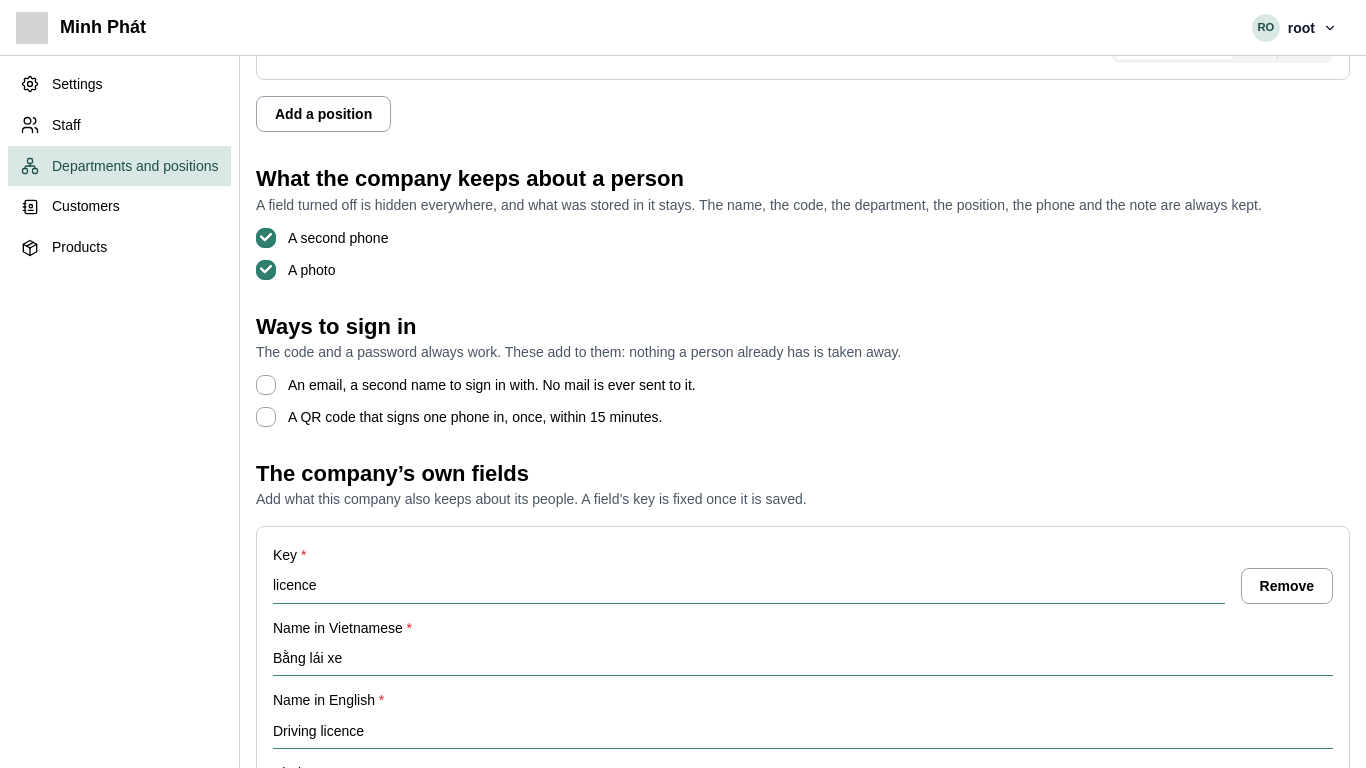
Scenario: an email on a person › C: The root turns the email and the QR sign-in on in the staff setup, and the person’s page then shows both
(page scrolled)
Click the checkbox labelled "An email, a second name to sign in with. No mail is ever sent to it." at (266, 385), box [256,375,276,395]
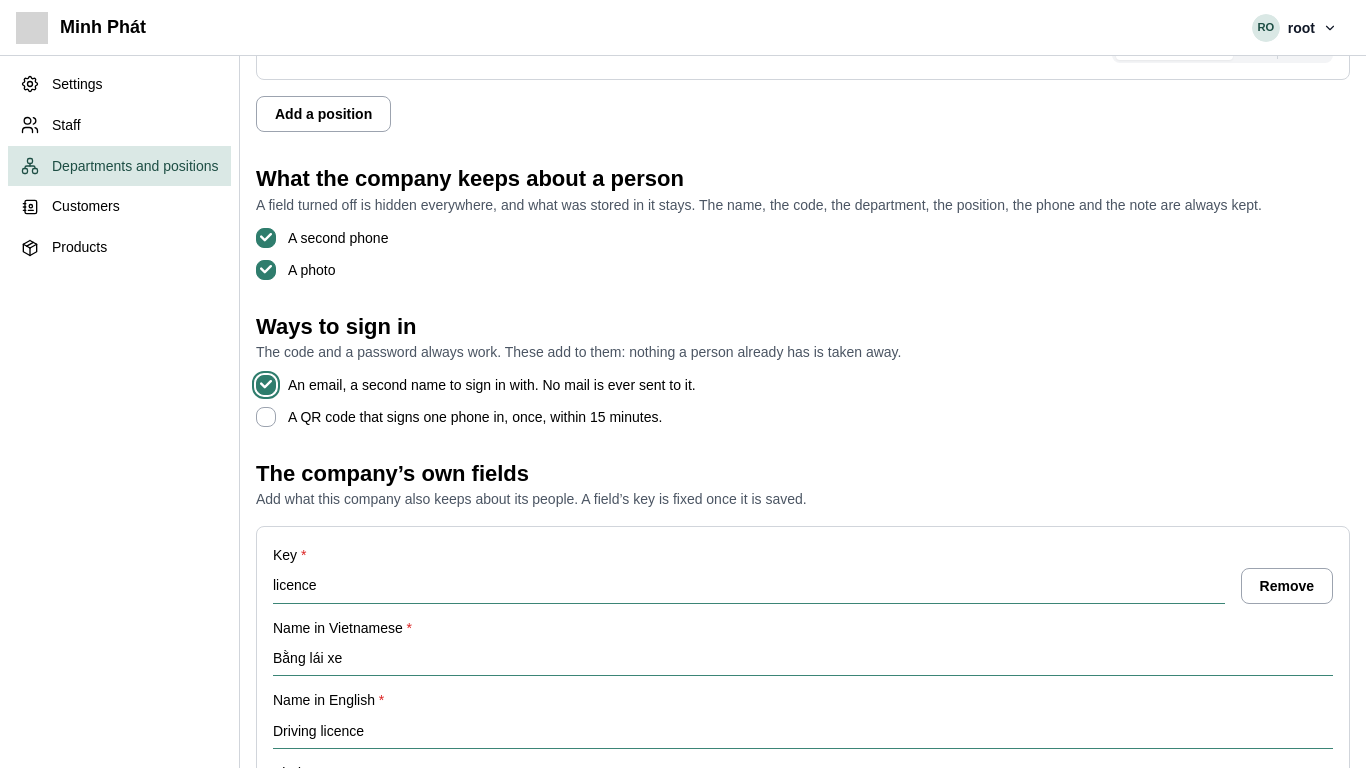
Click the checkbox labelled "A QR code that signs one phone in, once, within 15 minutes." at (266, 417), box [256,407,276,427]
(page scrolled)
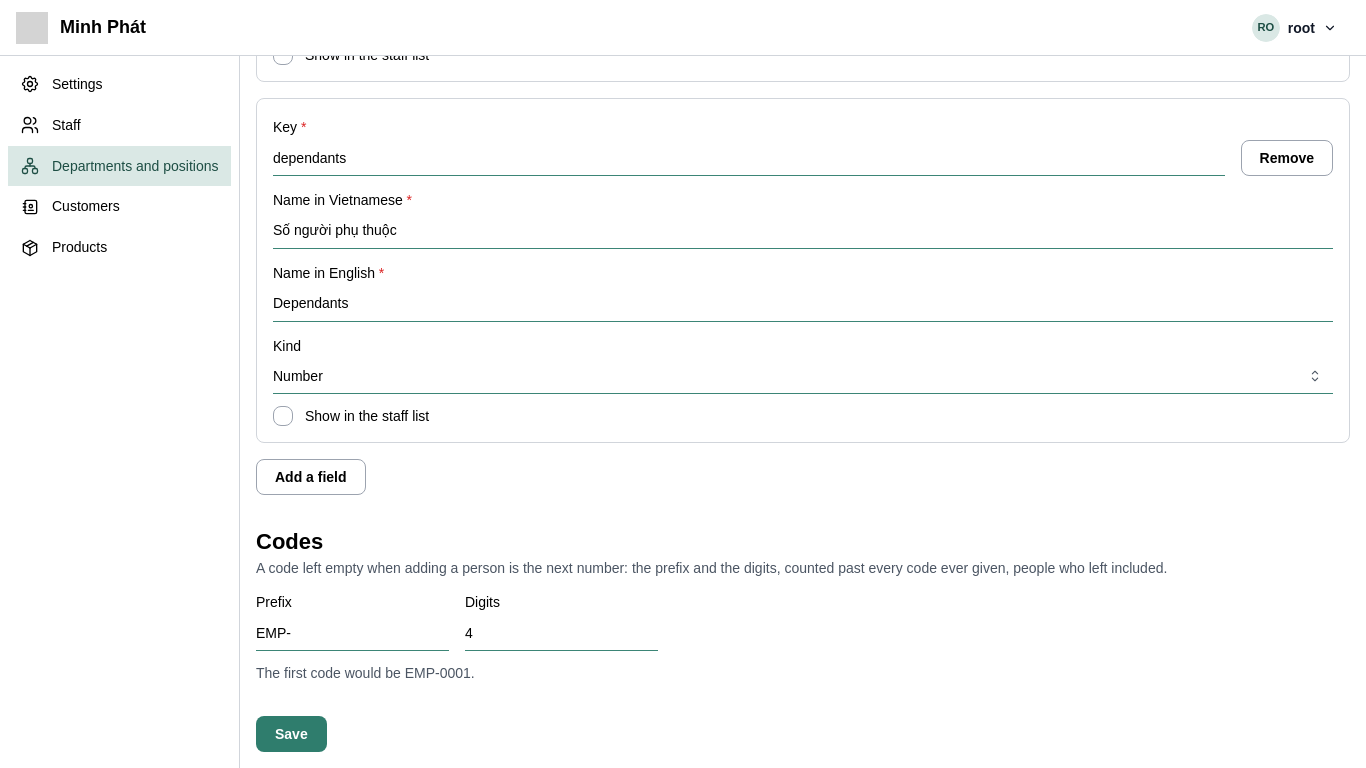
Click the button "Save" at (291, 734), box [256,716,327,752]
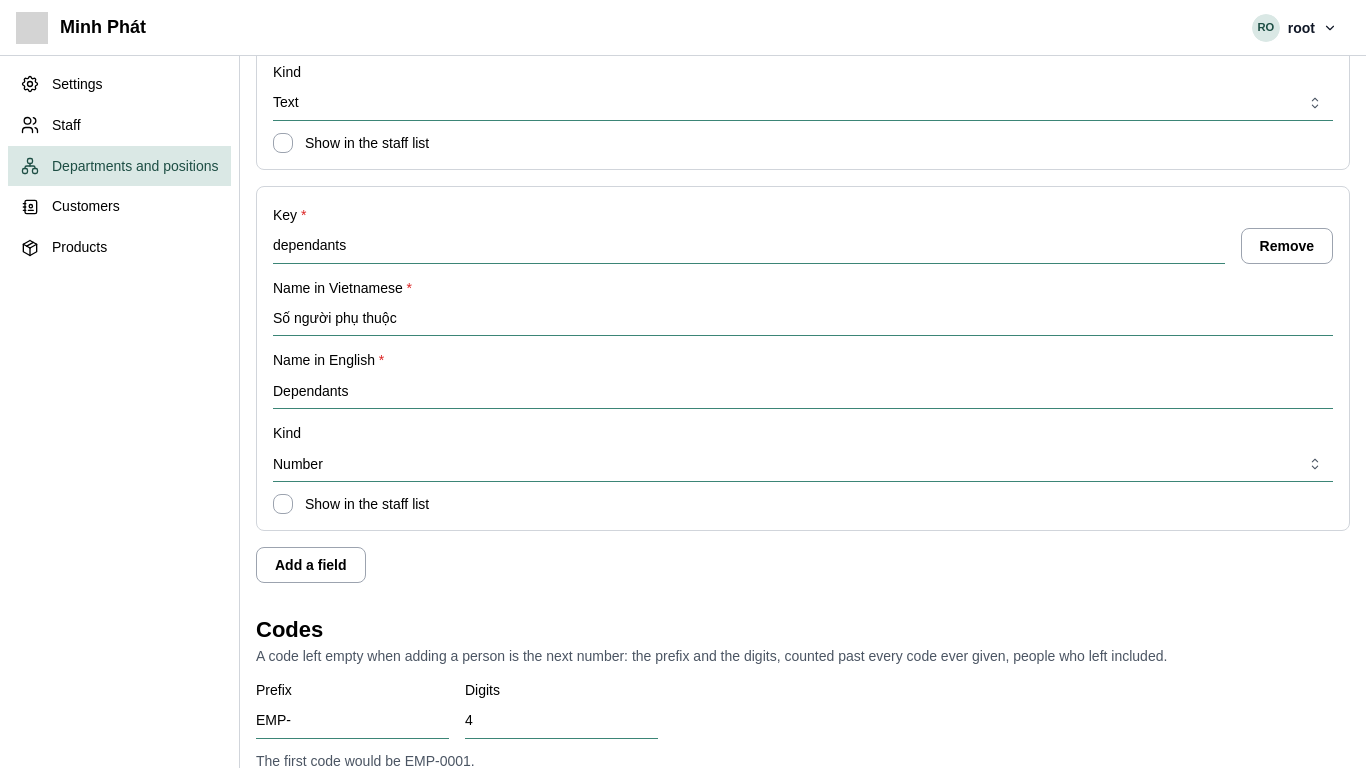
Click the link "Staff" at (50, 125), box [20,115,80,135]
(page scrolled)
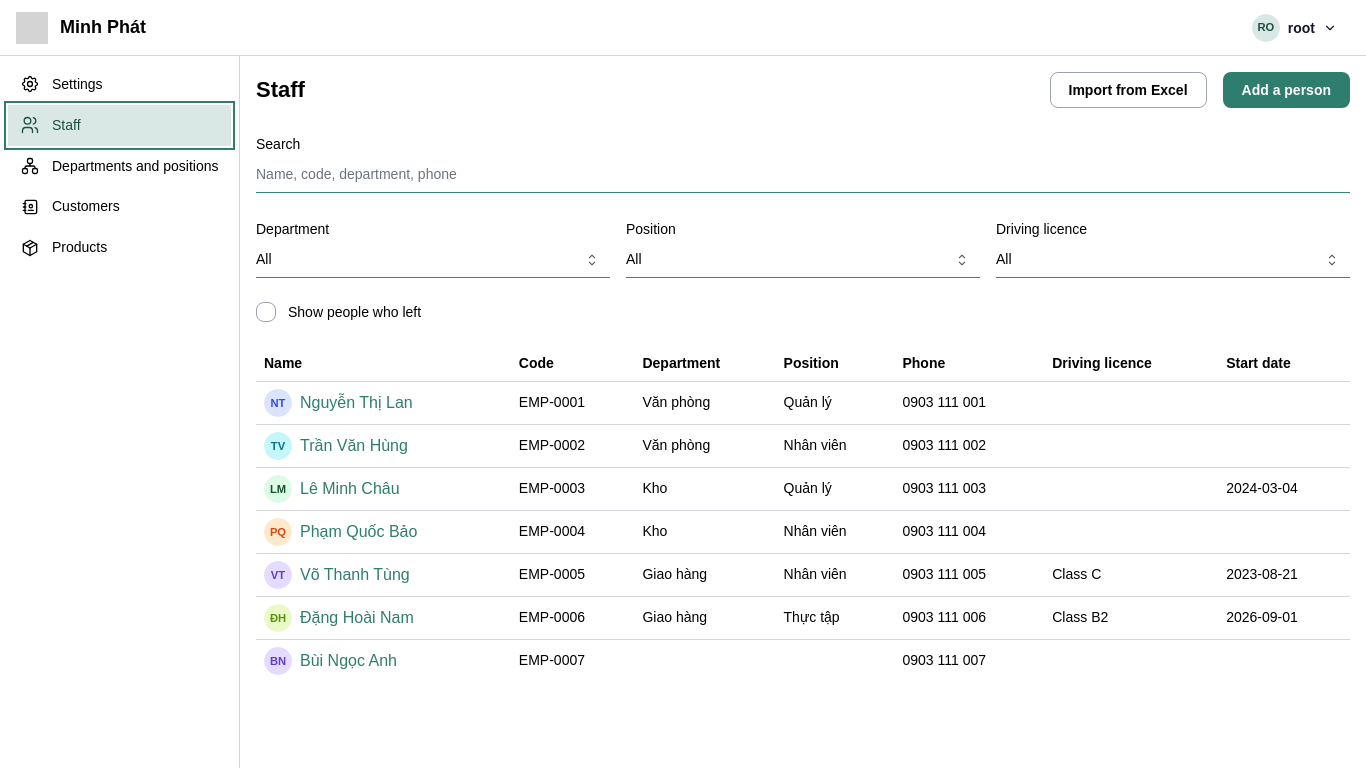
Click the link "Trần Văn Hùng" at (354, 446), box [300,434,408,459]
(page scrolled)
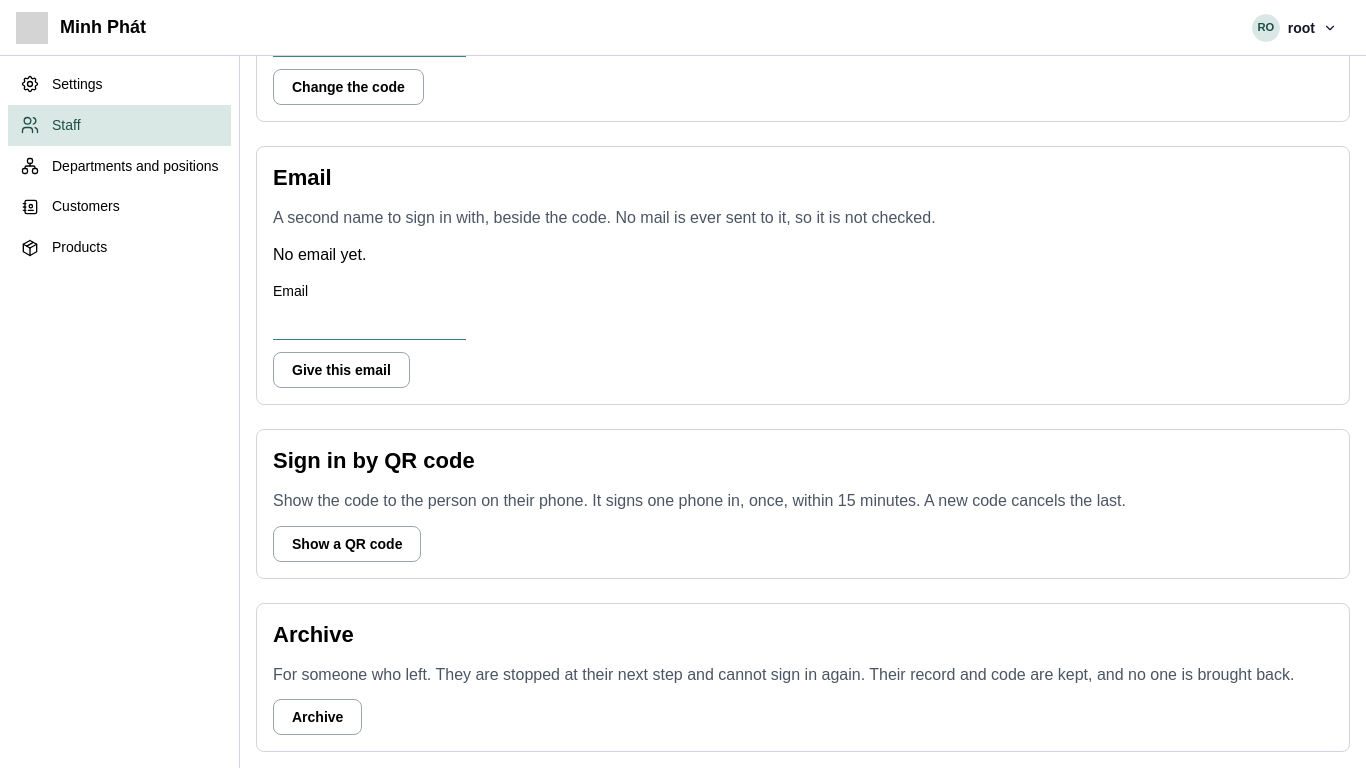
Check: the heading "Email" is shown, box [273,165,332,190]
Check: the heading "Sign in by QR code" is shown, box [273,446,475,477]
